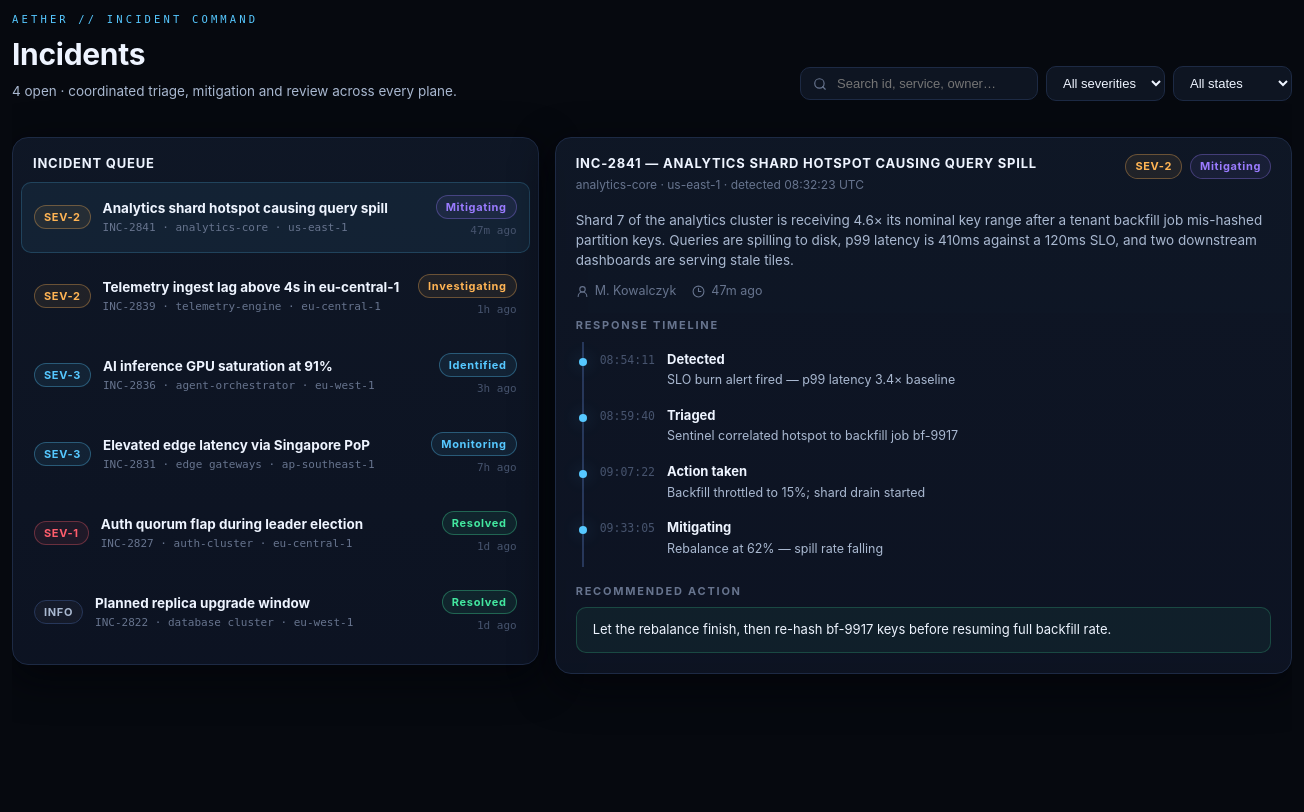
it: incident command center › shows an empty state when nothing matches
The width and height of the screenshot is (1304, 812).
Type "zzz-no-match" into the field named "Search incidents" at (930, 84), box x1=835 y1=75 x2=1025 y2=92
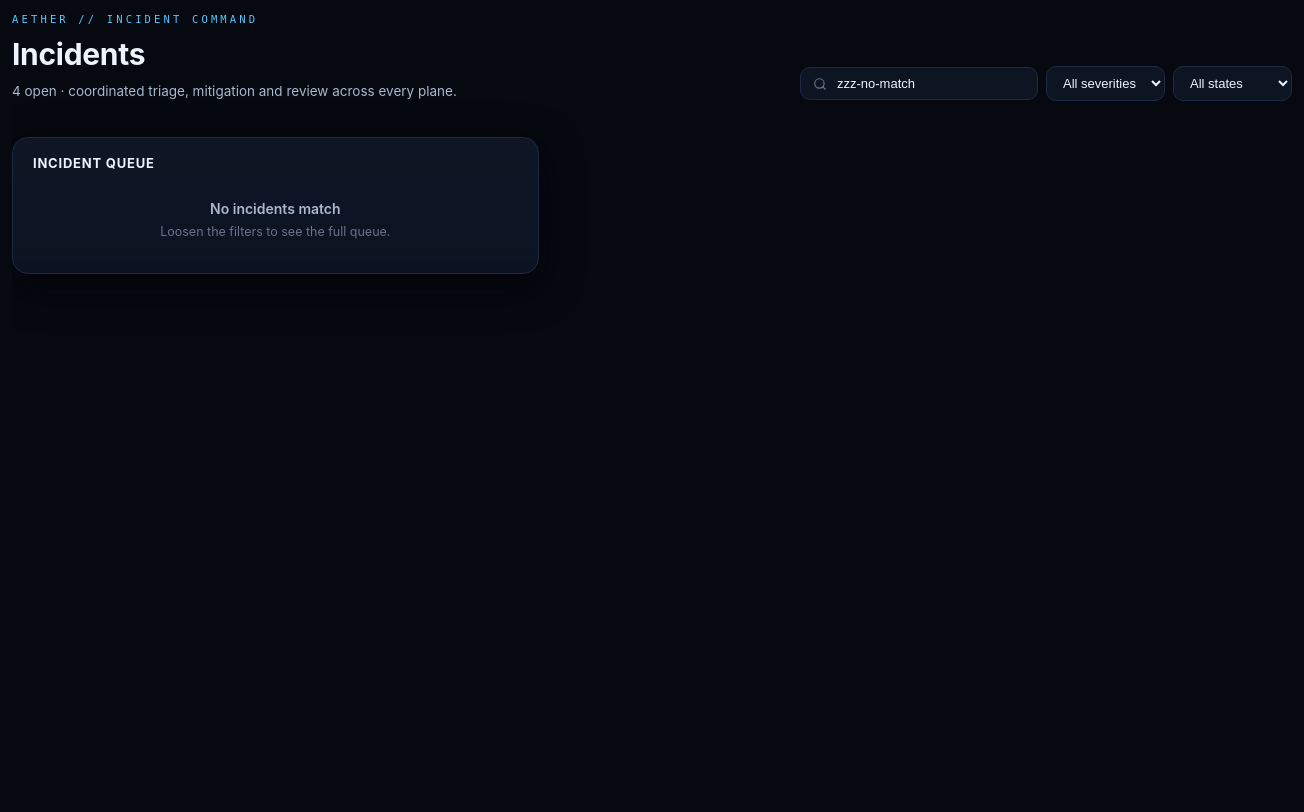
Result: the text "No incidents match" is shown at x1=210 y1=200 x2=340 y2=216
